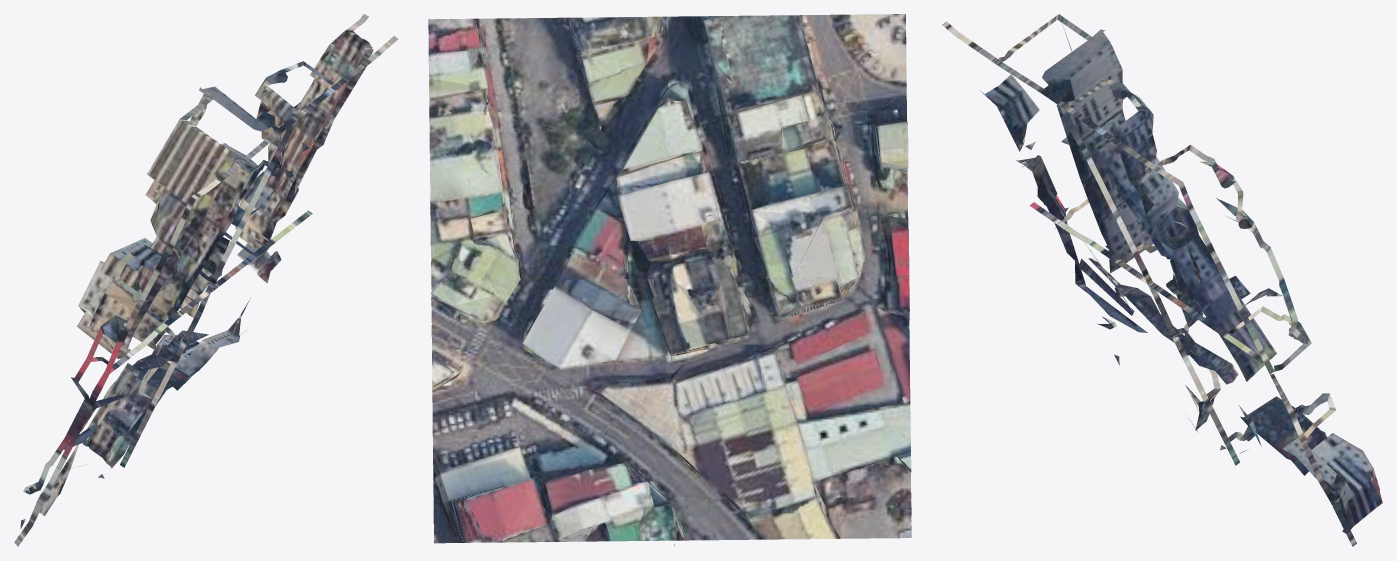
The picture shows the model from 3 angles, left to right: view 1: azimuth 30°, elevation 25°; view 2: azimuth 150°, elevation 25°; view 3: azimuth 270°, elevation 25°; orthographic projection. The views are drawn at different scales.
Size of the model in its own units: 153 by 151 by 136.
2 materials, 2 textured.
